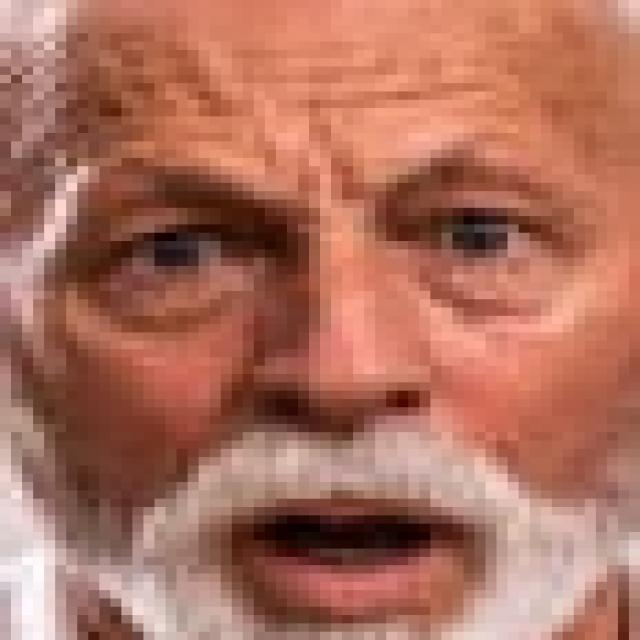Anxiety: (0, 0, 629, 632)
